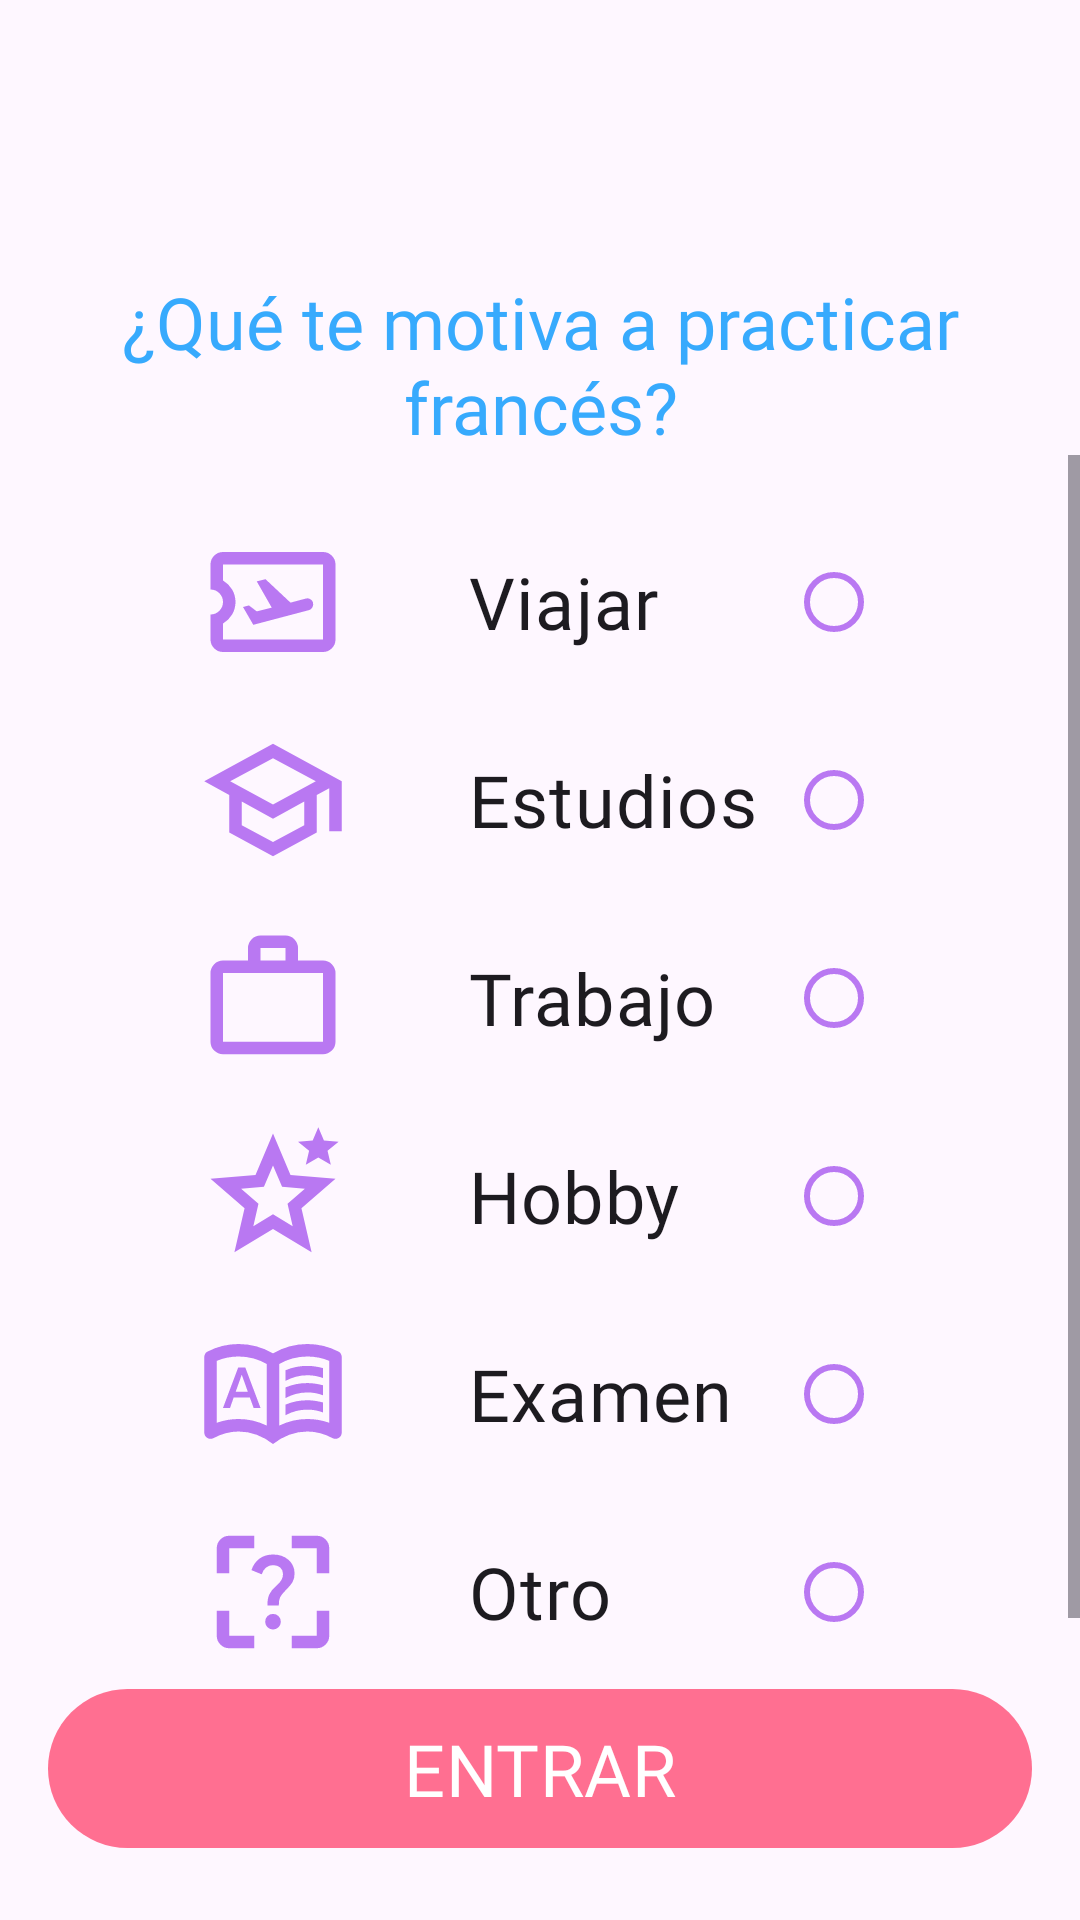

Screen size 1080px x 1920px. Icon name, then its center in pixels as point (x, y):
plane: point (273, 602)
